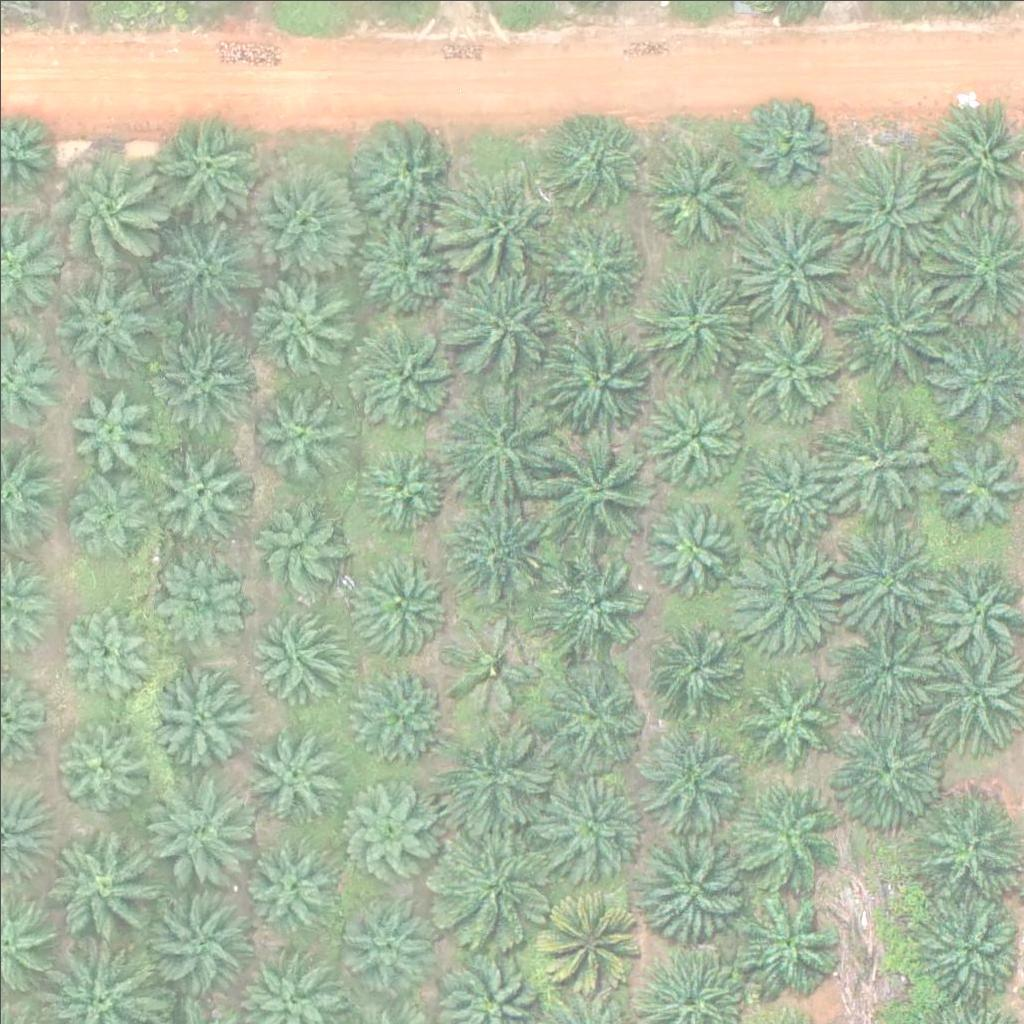Kelapa_Sawit: (40, 139, 165, 265), (541, 323, 654, 437), (734, 539, 847, 653), (825, 523, 938, 637), (831, 146, 944, 260), (908, 896, 1021, 1010), (142, 884, 255, 997), (148, 315, 261, 428), (148, 214, 261, 327), (152, 107, 265, 220), (447, 270, 560, 383), (444, 499, 557, 612), (440, 719, 553, 832), (436, 831, 549, 944), (542, 430, 655, 543), (633, 824, 746, 937), (639, 266, 752, 379), (731, 882, 844, 995), (729, 305, 842, 418), (820, 406, 933, 519), (144, 766, 256, 880), (445, 384, 557, 498), (729, 776, 841, 890), (50, 828, 162, 941), (53, 263, 165, 376), (244, 159, 356, 272), (350, 113, 462, 226), (445, 165, 557, 278), (537, 551, 649, 664), (638, 129, 750, 242), (728, 208, 840, 321), (828, 702, 940, 815), (839, 273, 951, 386), (49, 718, 149, 819), (149, 663, 249, 764), (145, 434, 245, 535), (244, 721, 344, 822), (252, 601, 352, 702), (247, 501, 347, 602), (251, 269, 351, 370), (346, 666, 446, 767), (349, 550, 449, 651), (350, 324, 450, 425), (548, 777, 648, 878), (546, 665, 646, 766), (542, 212, 642, 313), (545, 103, 645, 204), (640, 720, 740, 821), (645, 380, 745, 481), (739, 665, 839, 766), (153, 552, 253, 652), (343, 772, 443, 872), (349, 223, 449, 323), (437, 616, 537, 716), (542, 884, 642, 984), (648, 607, 748, 707), (737, 434, 837, 534), (837, 618, 937, 718), (647, 498, 735, 587), (359, 438, 447, 526), (64, 610, 151, 698), (64, 469, 151, 557), (67, 381, 154, 469), (245, 839, 332, 927), (256, 386, 343, 474), (343, 894, 430, 982), (745, 92, 832, 180)
